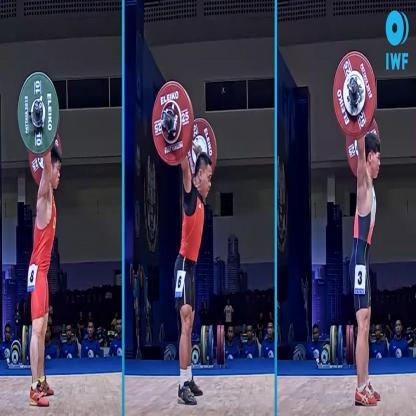barbell: (152, 82, 216, 177), (334, 50, 380, 174), (16, 70, 63, 183)
